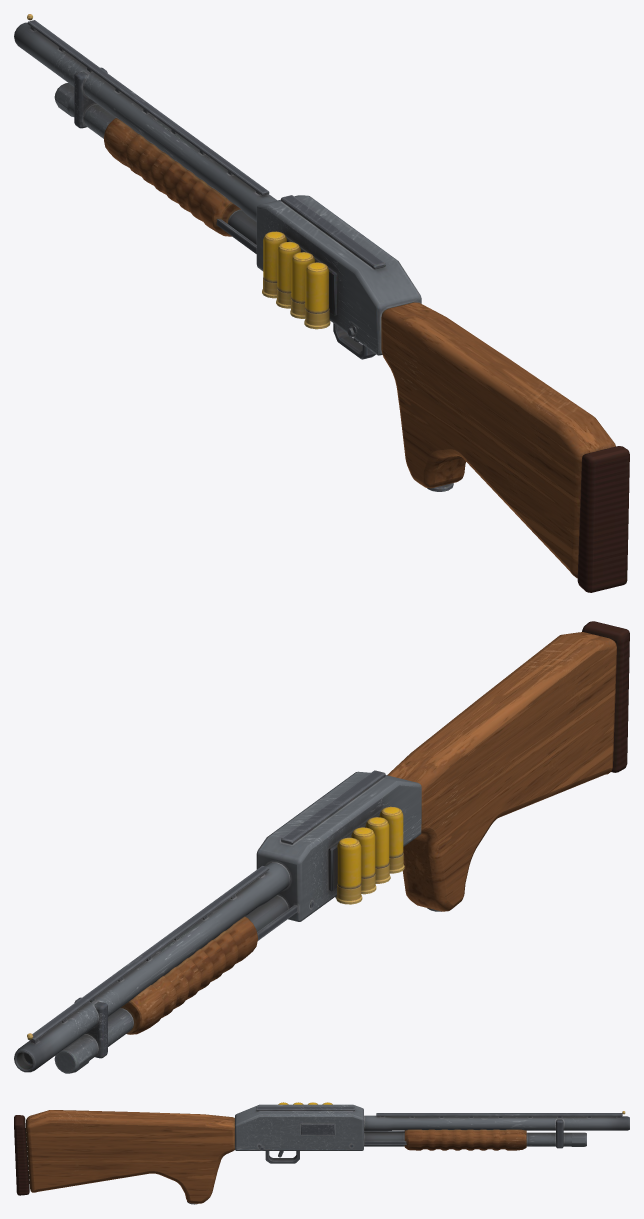
Rendered from shotgun.glb.
The picture shows the model from 3 angles, top to bottom: view 1: azimuth 30°, elevation 25°; view 2: azimuth 150°, elevation 25°; view 3: azimuth 270°, elevation 25°; orthographic projection. The views are drawn at different scales.
Visible parts, largest first — view 1: shotgun; view 2: shotgun; view 3: shotgun.
Boxes of the visible parts, left/top/right/bottom form: shotgun: left=14, top=14, right=629, bottom=592; shotgun: left=14, top=621, right=629, bottom=1073; shotgun: left=14, top=1102, right=629, bottom=1204.
Bounding box in the file's own units: 0.0727 × 0.168 × 1.
8 materials, 8 textured.
